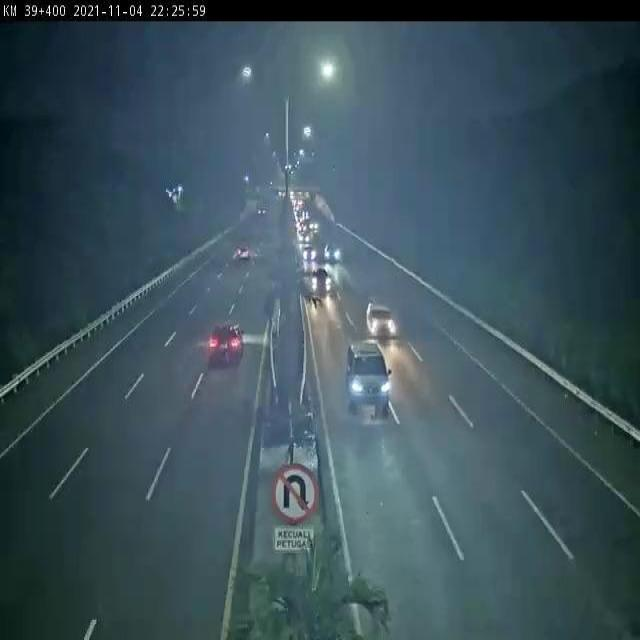Car: (339, 332, 402, 422), (195, 313, 258, 379), (361, 295, 401, 342), (304, 262, 337, 296), (231, 241, 256, 267), (298, 241, 317, 268)
